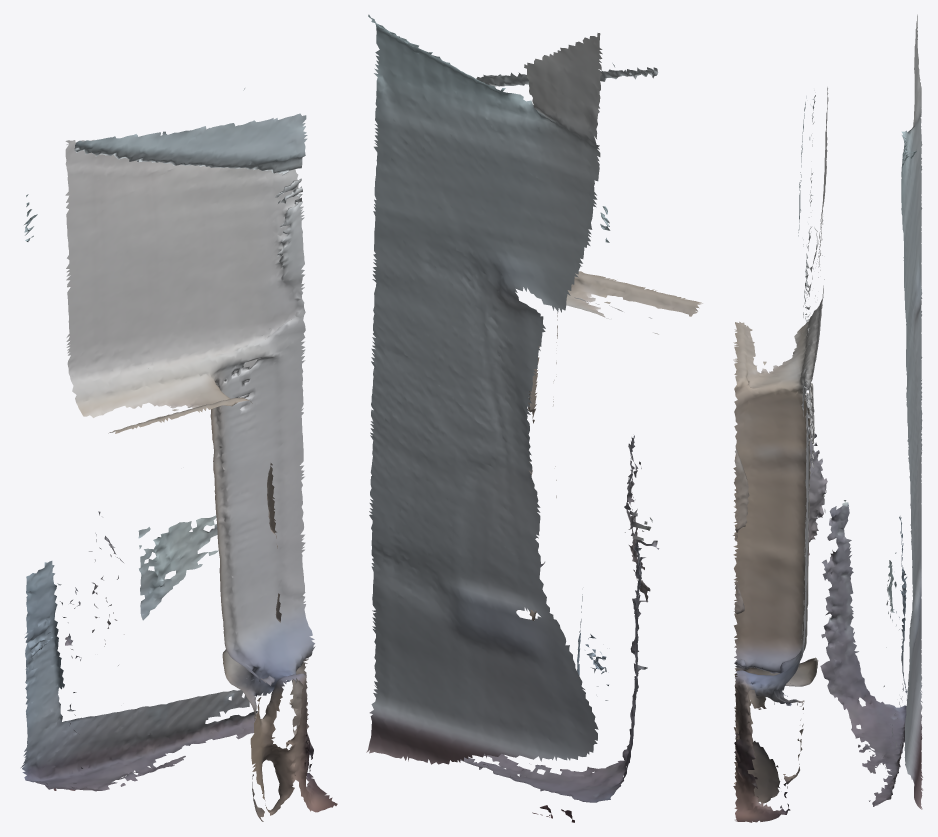
File: apartment-full-35-b99141aa1182.glb
3 views of the same model, side by side, from view 1: azimuth 30°, elevation 25°; view 2: azimuth 150°, elevation 25°; view 3: azimuth 270°, elevation 25° (orthographic). The views are drawn at different scales.
Bounding box in the file's own units: 0.53 × 1.7 × 0.411.
